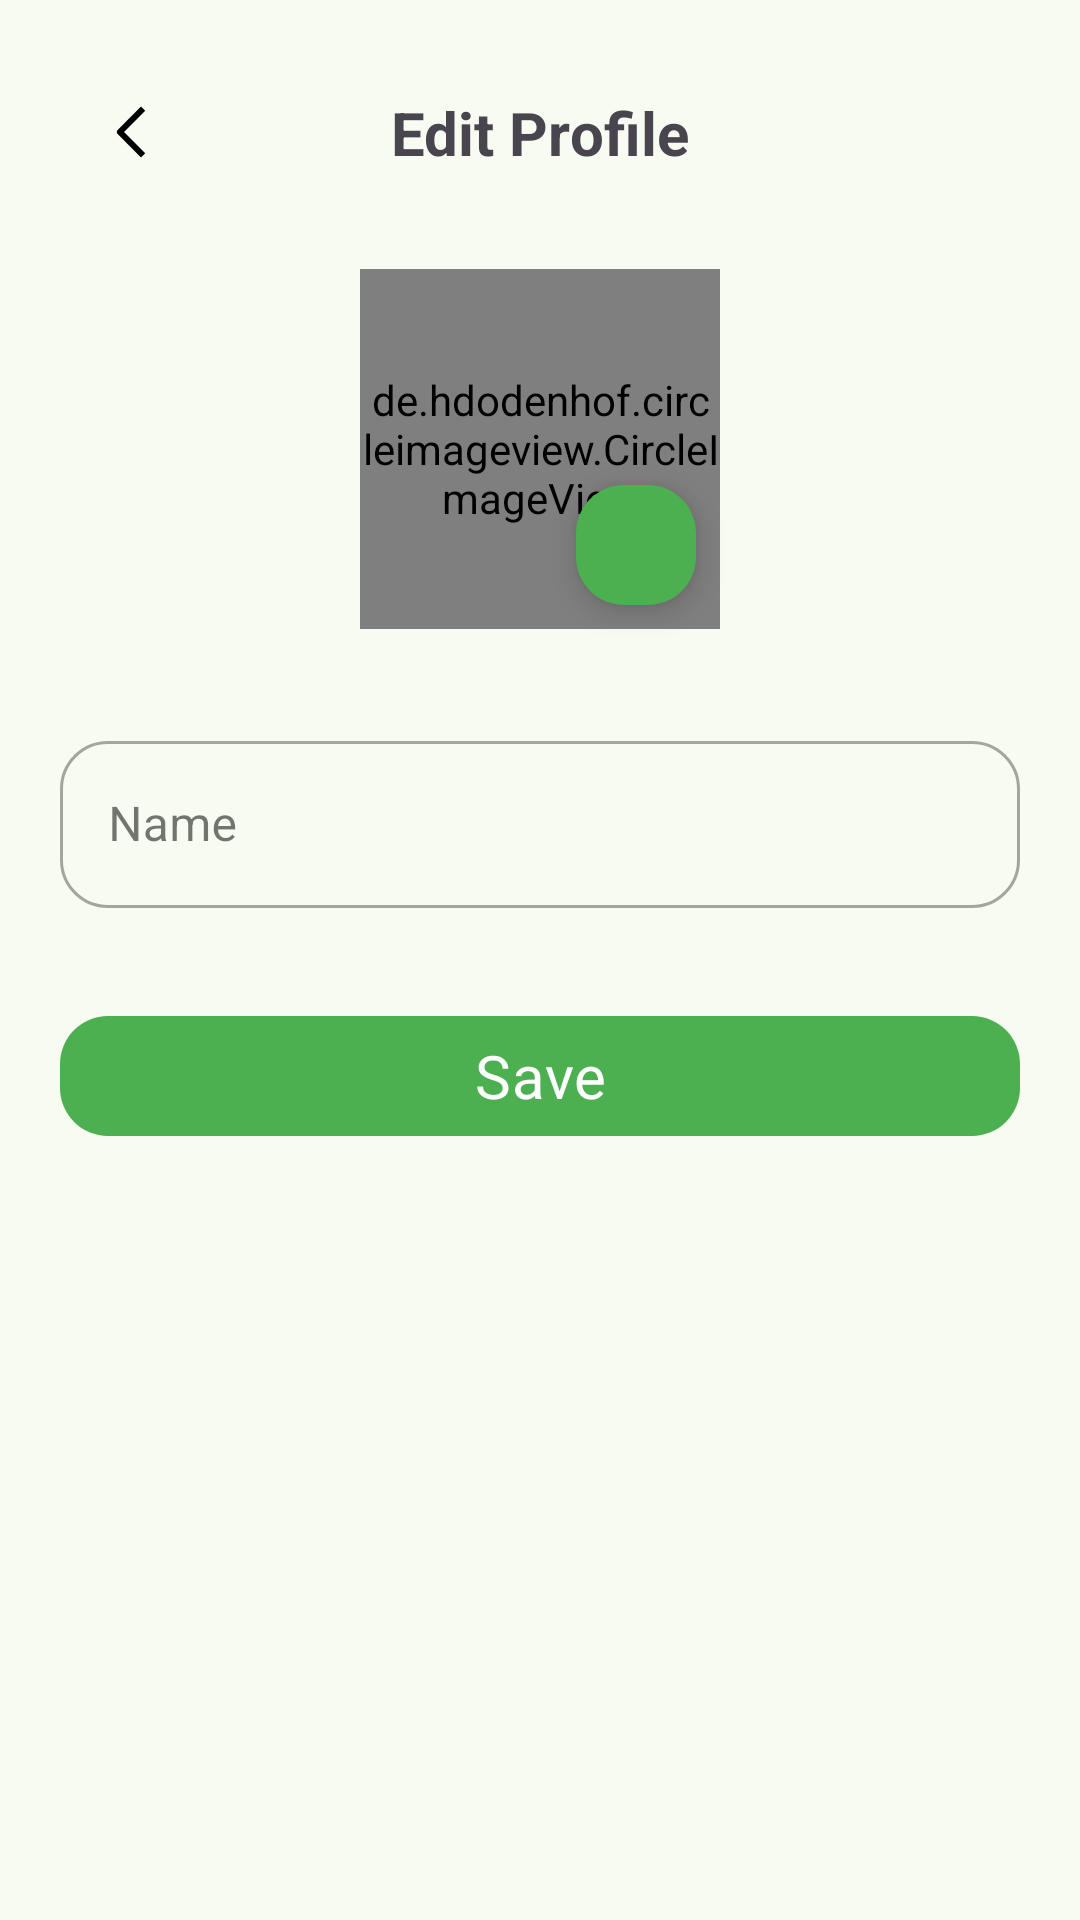

Where to tap for icons on this 1080 x 1920 app screen, as point (x, y):
Back button: point (130, 132)
